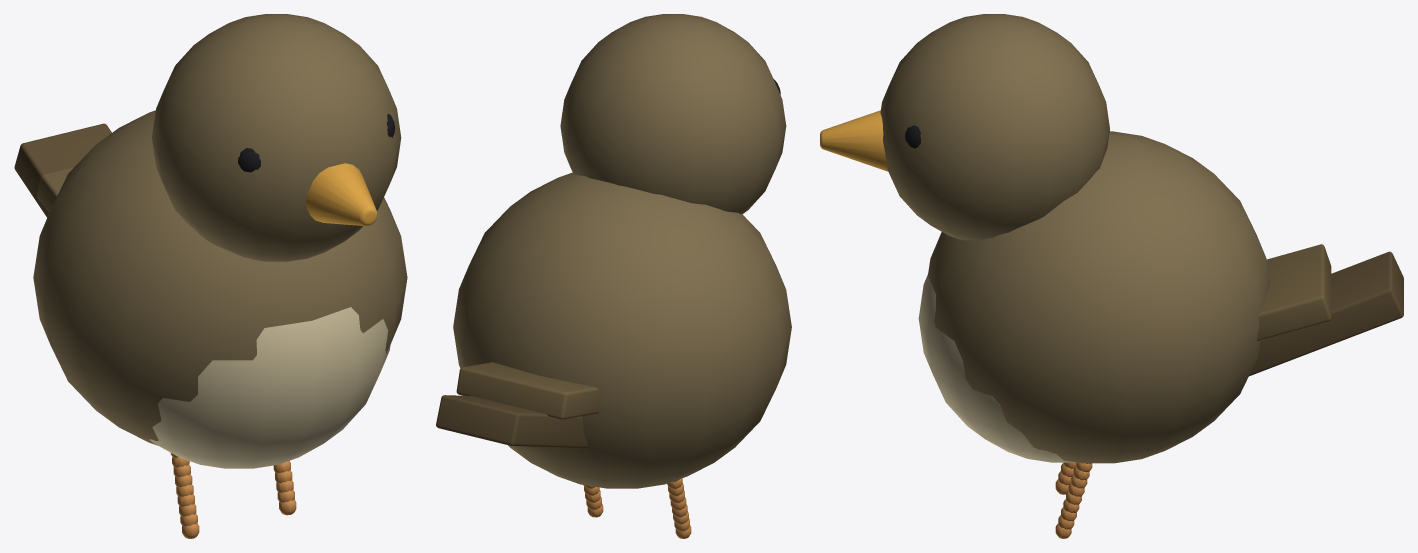
Rendered from finch.glb.
The picture shows the model from 3 angles, left to right: view 1: azimuth 30°, elevation 25°; view 2: azimuth 150°, elevation 25°; view 3: azimuth 270°, elevation 25°; orthographic projection. The views are drawn at different scales.
Parts seen in each view (by area): view 1: finch; view 2: finch; view 3: finch.
Boxes of the visible parts, bbox=[...] form: finch: bbox=[14, 14, 407, 538]; finch: bbox=[436, 14, 791, 538]; finch: bbox=[820, 14, 1403, 538].
Bounding box in the file's own units: 0.5909 × 0.936 × 1.01.
